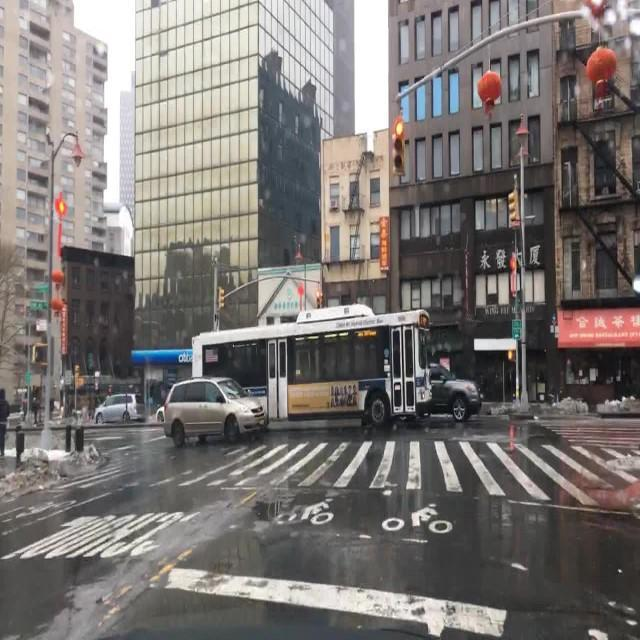normal: (130, 297, 521, 455)
